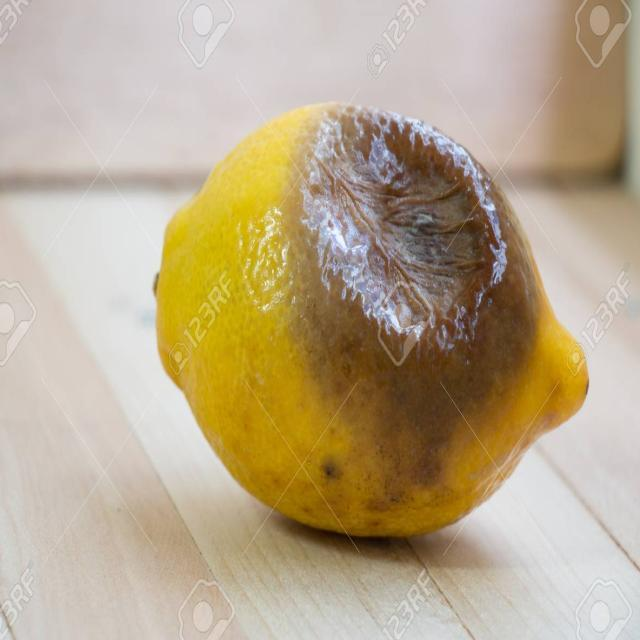Rotten: (149, 100, 589, 537)
